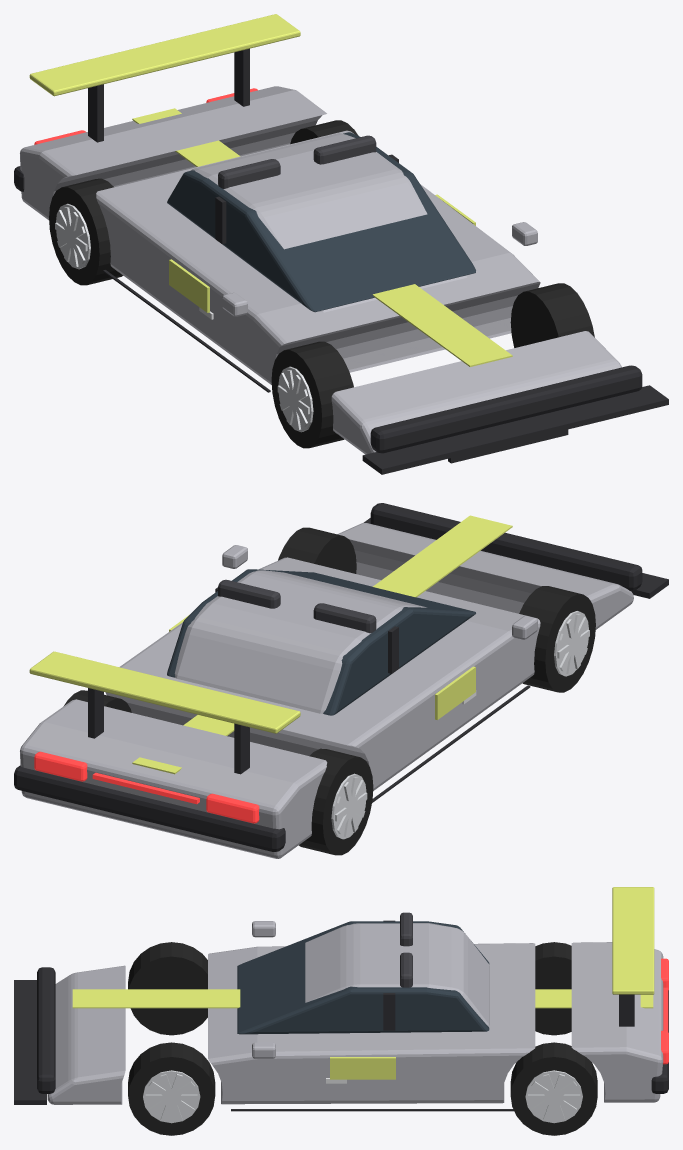
Rendered from race.glb.
3 views of the same model, one above another, from view 1: azimuth 30°, elevation 25°; view 2: azimuth 150°, elevation 25°; view 3: azimuth 270°, elevation 25° (orthographic). The views are drawn at different scales.
Parts seen in each view (by area): view 1: e, Cube, e.002, Cube.018, Cylinder, Cylinder.001, Cube.024; view 2: e, Cube, Cube.018, Cylinder, e.002, Cylinder.001, Cube.009, Cube.024; view 3: e, Cylinder, e.002, Cube.018, Cube, Cylinder.001, Cube.024, Cube.009.
Part boxes in pixels (box(x1,y1,x2,y2)): e: box(20, 86, 621, 454); Cube: box(14, 48, 668, 474); e.002: box(167, 132, 475, 312); Cube.018: box(29, 14, 512, 366); Cylinder: box(49, 120, 594, 448); Cylinder.001: box(55, 203, 313, 432); Cube.024: box(218, 135, 376, 188); e: box(20, 523, 633, 858); Cube: box(14, 503, 668, 851); Cube.018: box(29, 515, 512, 774); Cylinder: box(63, 527, 595, 855); e.002: box(167, 569, 475, 715); Cylinder.001: box(331, 611, 589, 839); Cube.009: box(34, 751, 259, 823); Cube.024: box(218, 579, 376, 633); e: box(47, 921, 663, 1104); Cylinder: box(128, 942, 597, 1135); e.002: box(237, 921, 489, 1034); Cube.018: box(72, 887, 654, 1079); Cube: box(14, 920, 668, 1111); Cylinder.001: box(143, 1070, 582, 1123); Cube.024: box(400, 912, 412, 987); Cube.009: box(661, 958, 668, 1064).
Bounding box in the file's own units: 2.29 × 1.17 × 4.96.
